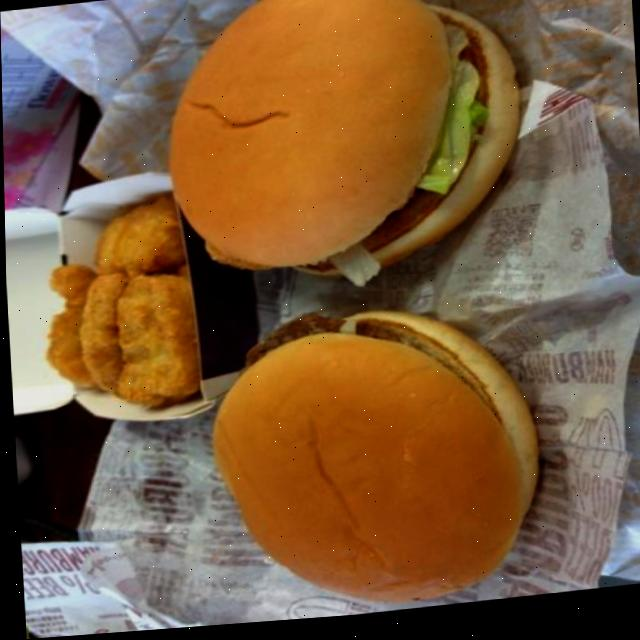汉堡快餐: (177, 284, 555, 630), (142, 0, 525, 301)
